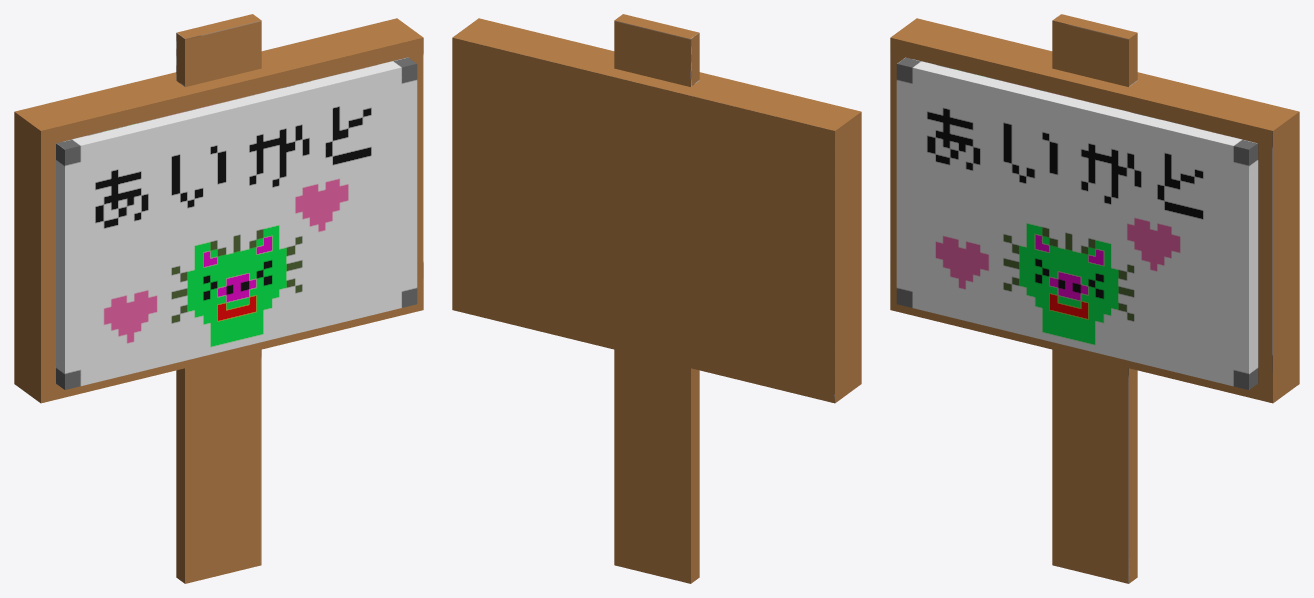
Rendered from kannban_orei.glb.
3 views of the same model, side by side, from view 1: azimuth 30°, elevation 25°; view 2: azimuth 150°, elevation 25°; view 3: azimuth 330°, elevation 25° (orthographic).
Parts seen in each view (by area): view 1: kannban_orei; view 2: kannban_orei; view 3: kannban_orei.
Part boxes in pixels (x1,y1,x2,y2): kannban_orei: (14, 14, 423, 583); kannban_orei: (452, 14, 861, 583); kannban_orei: (890, 14, 1299, 583).
Bounding box in the file's own units: 1 × 1.36 × 0.16.
Materials: 1 (1 with a texture image).
